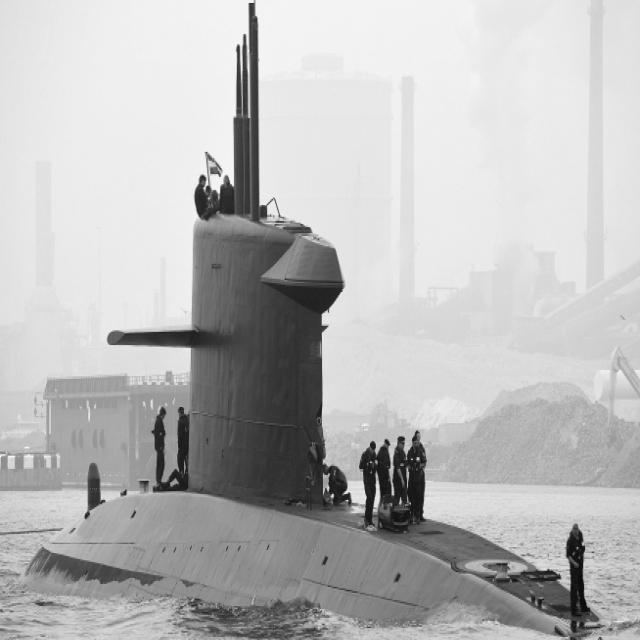submarine: (29, 1, 612, 640)
